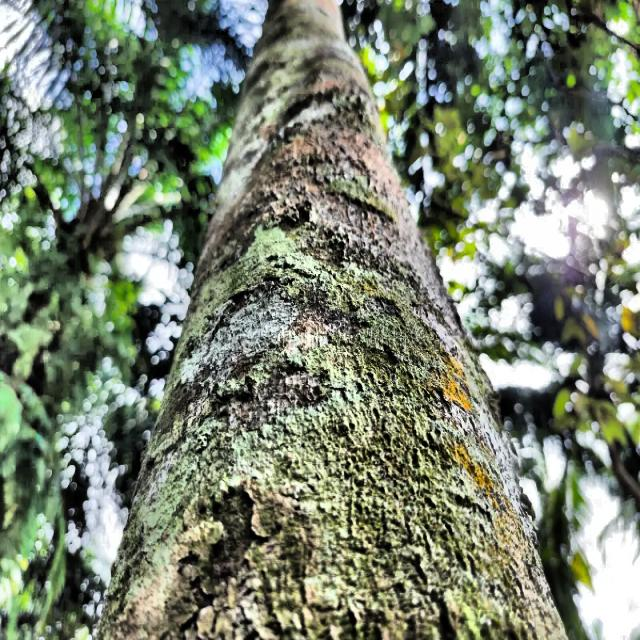arvore: (183, 0, 538, 640)
